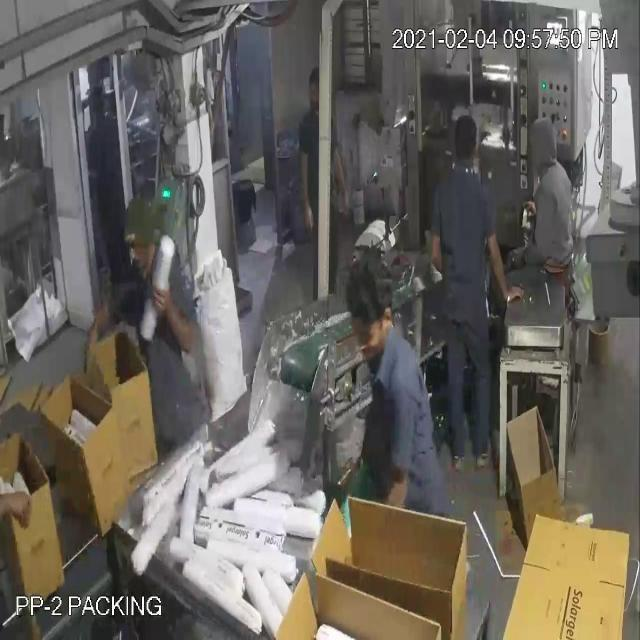No_Gloves: (17, 50, 508, 510)
